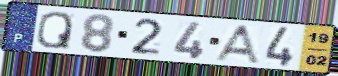2: (131, 17, 164, 57)
4: (171, 19, 206, 61), (265, 25, 296, 69)
8: (79, 12, 116, 54)
A: (211, 23, 262, 65)
Q: (34, 10, 74, 50)
